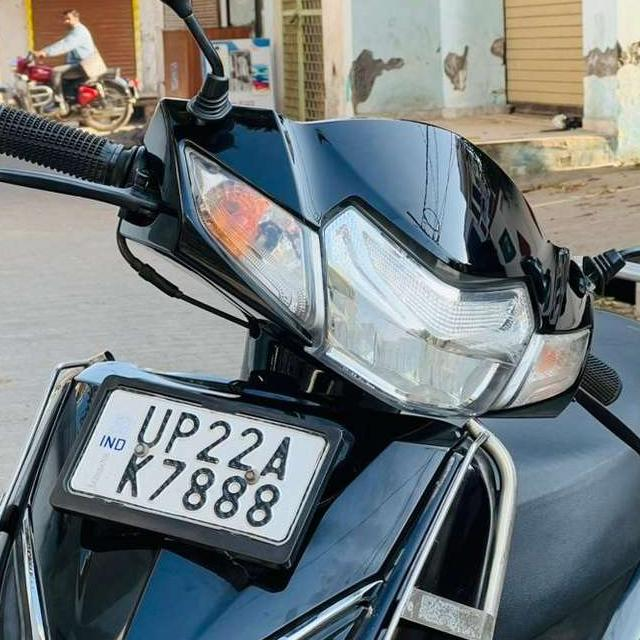Indian_Number_Plate: (58, 382, 336, 549)
